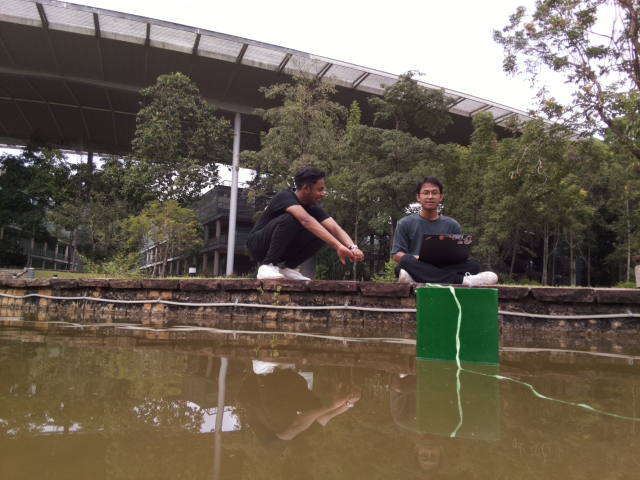obstacle: (415, 286, 500, 365)
